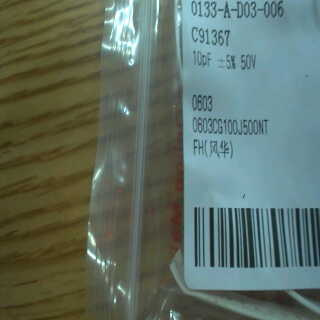10pF: (188, 46, 216, 68)
